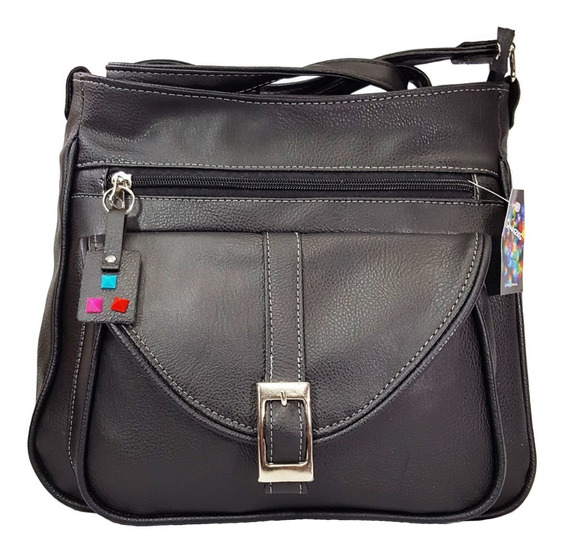cartera: (25, 26, 537, 528)
